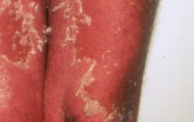SJS-TEN: (0, 0, 164, 122)
